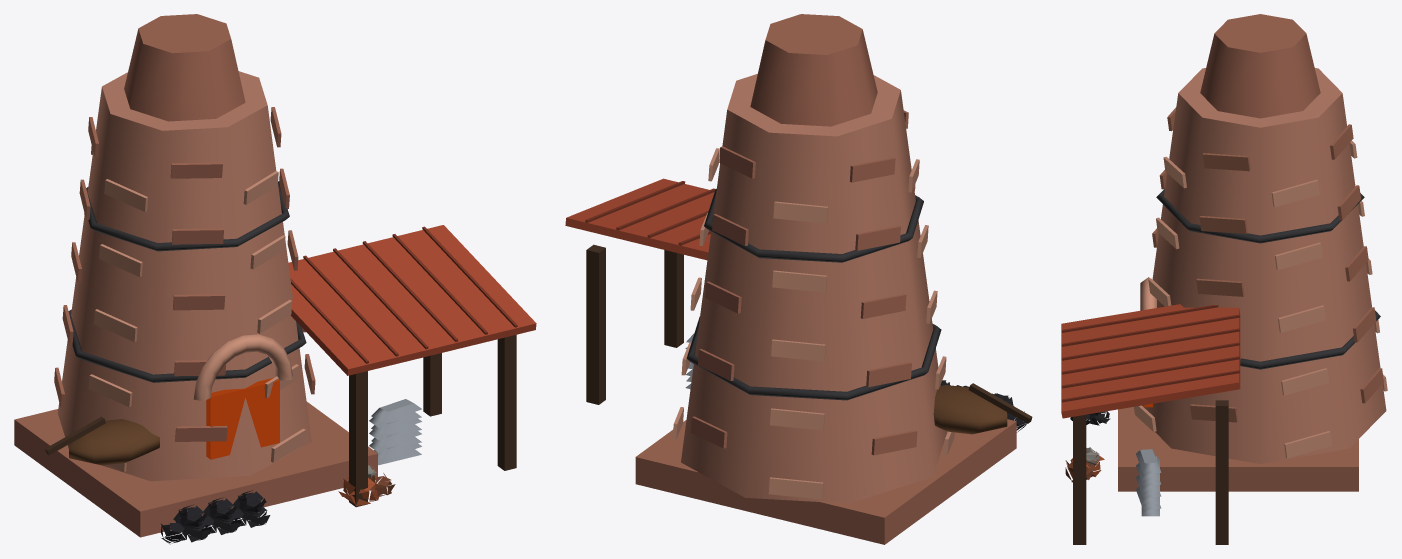
Rendered from schmelze.glb.
3 renders of one model, left to right at view 1: azimuth 30°, elevation 25°; view 2: azimuth 150°, elevation 25°; view 3: azimuth 270°, elevation 25°, orthographic. The views are drawn at different scales.
Bounding box in the file's own units: 4.24 × 4.1 × 2.98.
